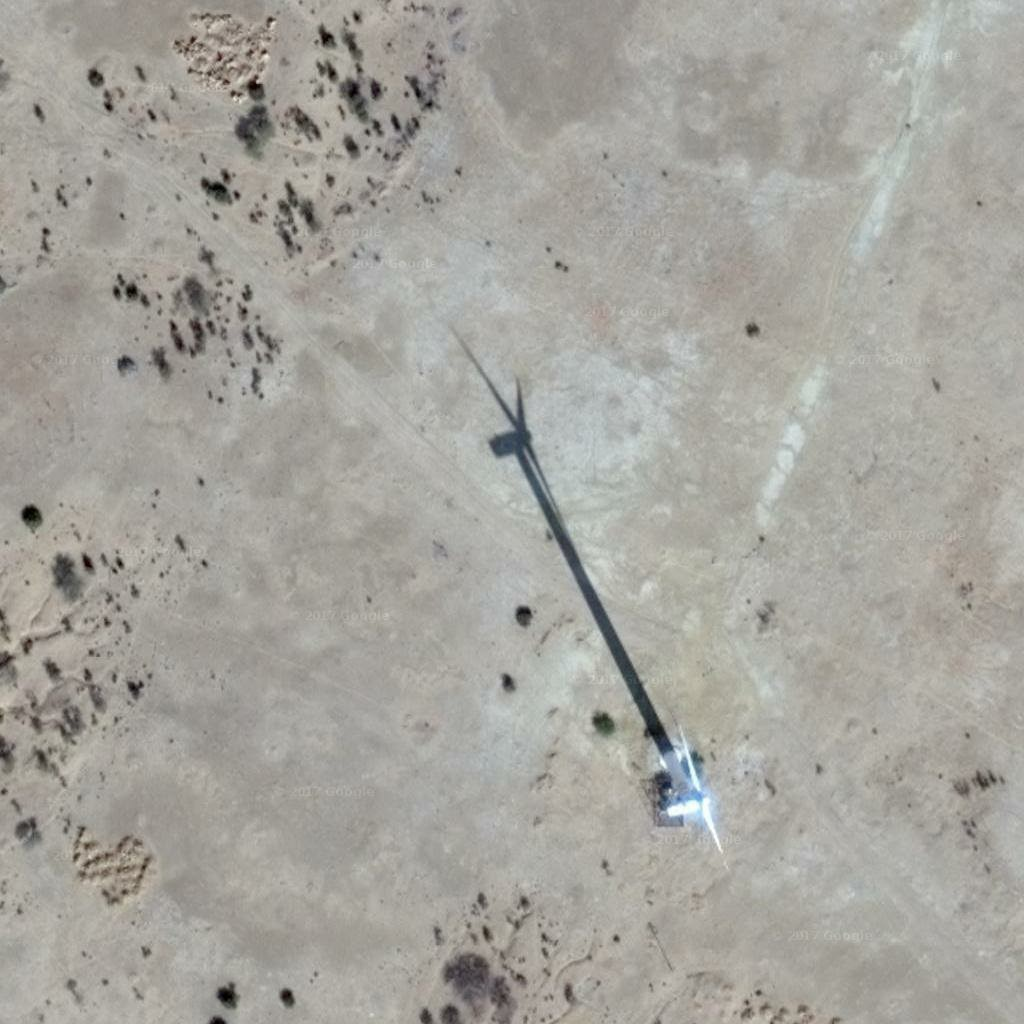Windmill: (461, 339, 642, 657)
